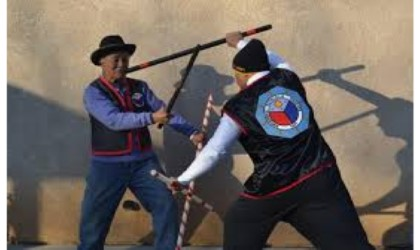baston_e: (129, 42, 190, 77), (319, 101, 378, 135), (162, 58, 198, 106), (170, 195, 196, 247)
baston_v: (351, 58, 372, 77), (146, 164, 167, 183), (258, 17, 275, 36), (204, 197, 217, 216), (152, 120, 164, 131), (205, 91, 217, 102), (194, 37, 201, 51)
